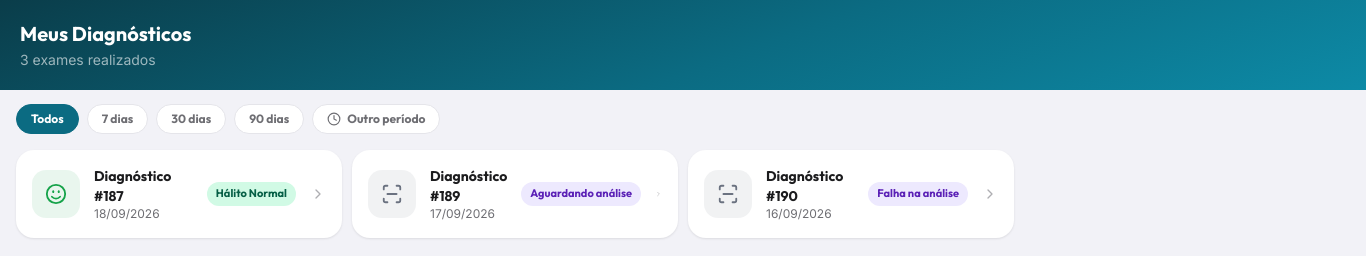
Scenario: Meus diagnósticos › filtra o período no servidor e mantém o total geral no cabeçalho
Expected: the text "Falha na análise" is shown, [868,182,968,206]
Click the button "7 dias" at point(118, 119), box [87,104,148,134]
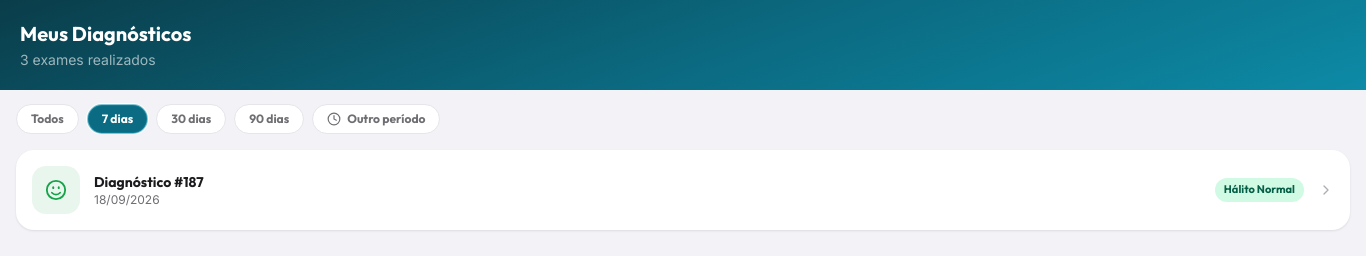
Expected: the text "Hálito Normal" is shown, [1215,178,1304,202]
Expected: the link "Falha na análise" is gone
